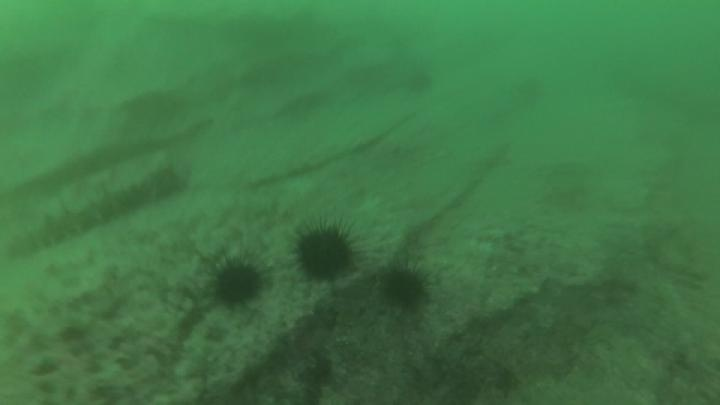echinus: (290, 218, 362, 286), (209, 255, 267, 310), (379, 262, 432, 312), (403, 66, 436, 97)
holothurian: (5, 160, 184, 259)
